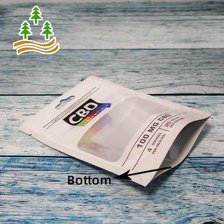snack: (11, 69, 217, 193)
